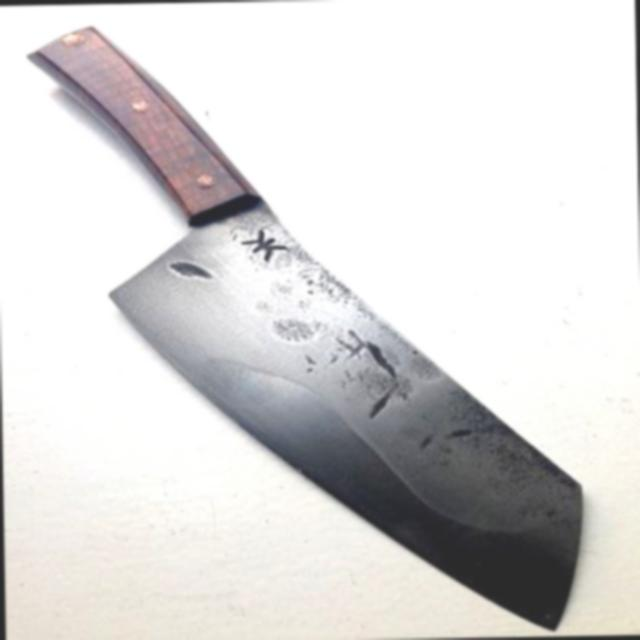cleaver: (22, 13, 582, 636)
